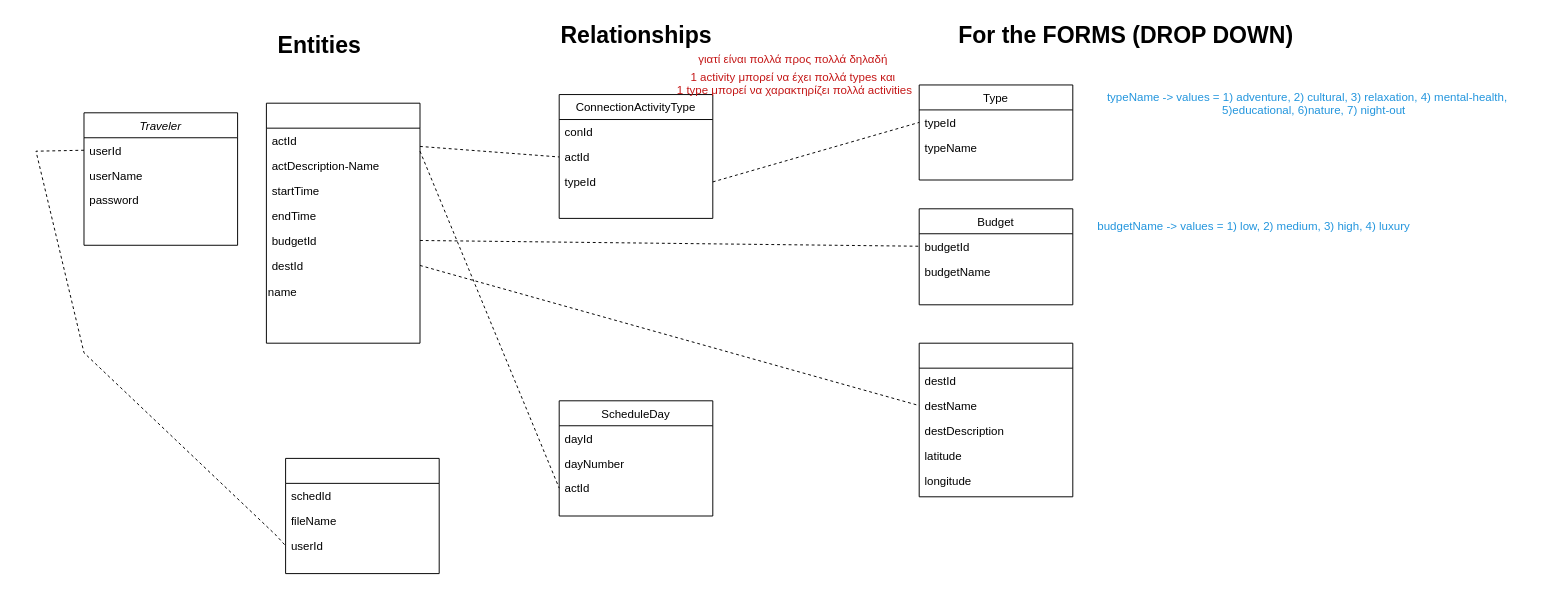
Some shapes in this 1559 by 590 pixel diagram are drawn without their labels. Here are the shapes that lost their labels. From the top down, the box of each, then its label:
(265, 102, 420, 343): Activity
(918, 342, 1073, 497): Destination
(285, 457, 439, 574): ScheduleOverall
